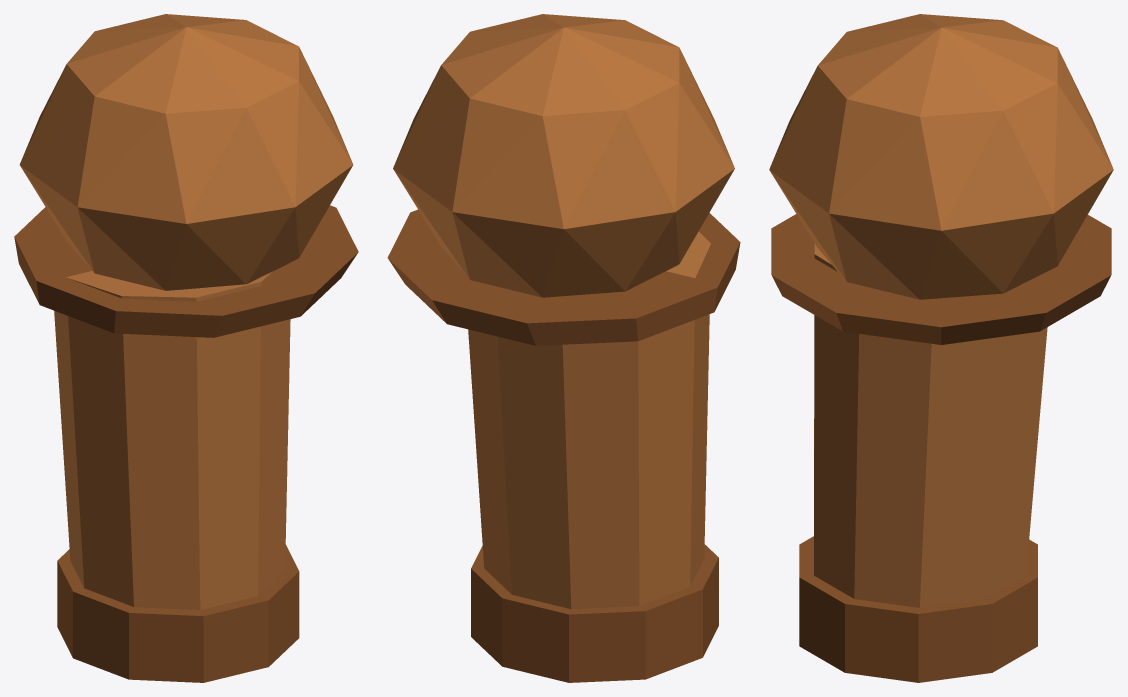
File: gear_bronze_body_arm_l.glb
3 renders of one model, left to right at view 1: azimuth 30°, elevation 25°; view 2: azimuth 150°, elevation 25°; view 3: azimuth 270°, elevation 25°, orthographic. The views are drawn at different scales.
Visible parts, largest first — view 1: gear_bronze_body_arm_l; view 2: gear_bronze_body_arm_l; view 3: gear_bronze_body_arm_l.
Boxes of the visible parts, x1,y1,x2,y2 form: gear_bronze_body_arm_l: (14,14,358,682); gear_bronze_body_arm_l: (387,14,740,682); gear_bronze_body_arm_l: (769,14,1113,682).
Size of the model in its own units: 0.188 by 0.355 by 0.1812.
